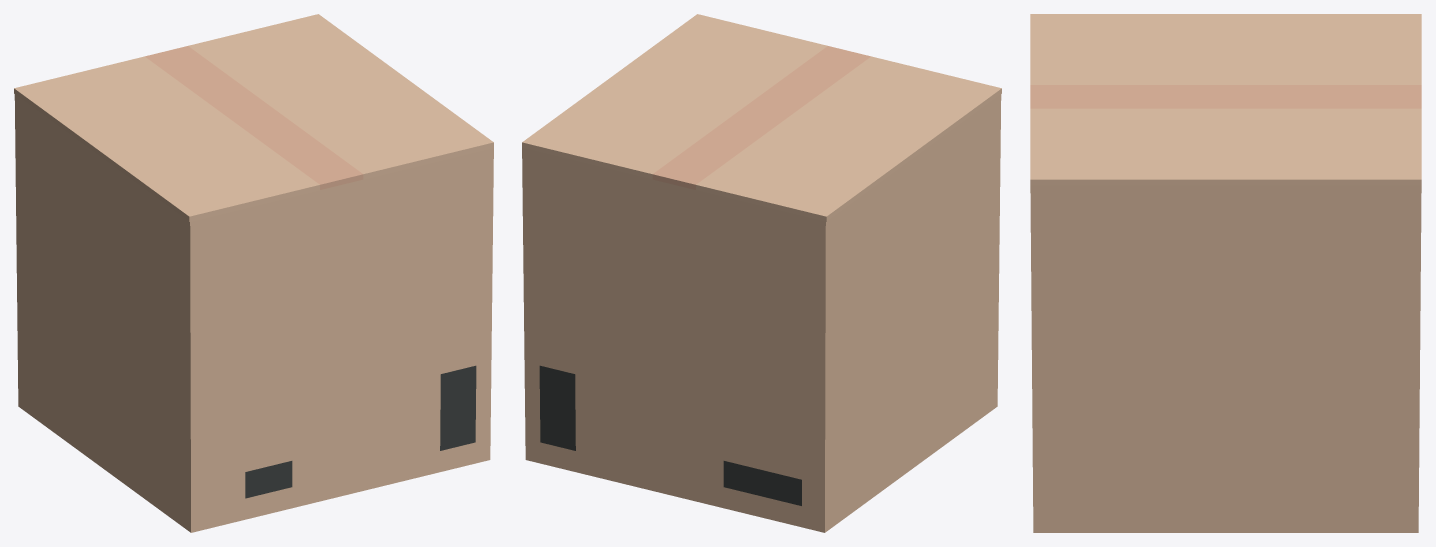
The model's file is P_carton.fbx.
3 renders of one model, left to right at view 1: azimuth 30°, elevation 25°; view 2: azimuth 150°, elevation 25°; view 3: azimuth 270°, elevation 25°, orthographic. The views are drawn at different scales.
Visible parts, largest first — view 1: Box002; view 2: Box002; view 3: Box002.
Part boxes in pixels (left/top/right/bottom): Box002: left=14, top=14, right=493, bottom=532; Box002: left=522, top=14, right=1001, bottom=532; Box002: left=1030, top=14, right=1421, bottom=532.
Bounding box in the file's own units: 17.2 × 17.17 × 17.16.
